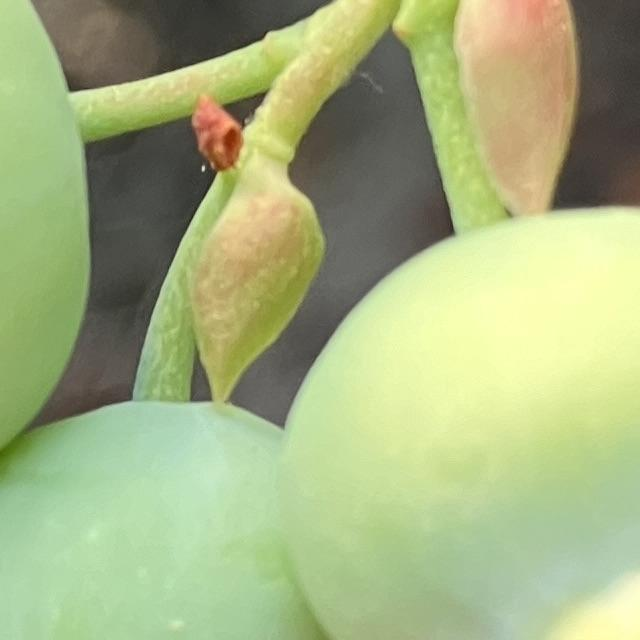Blueberries: (269, 193, 640, 640), (0, 384, 380, 640)
